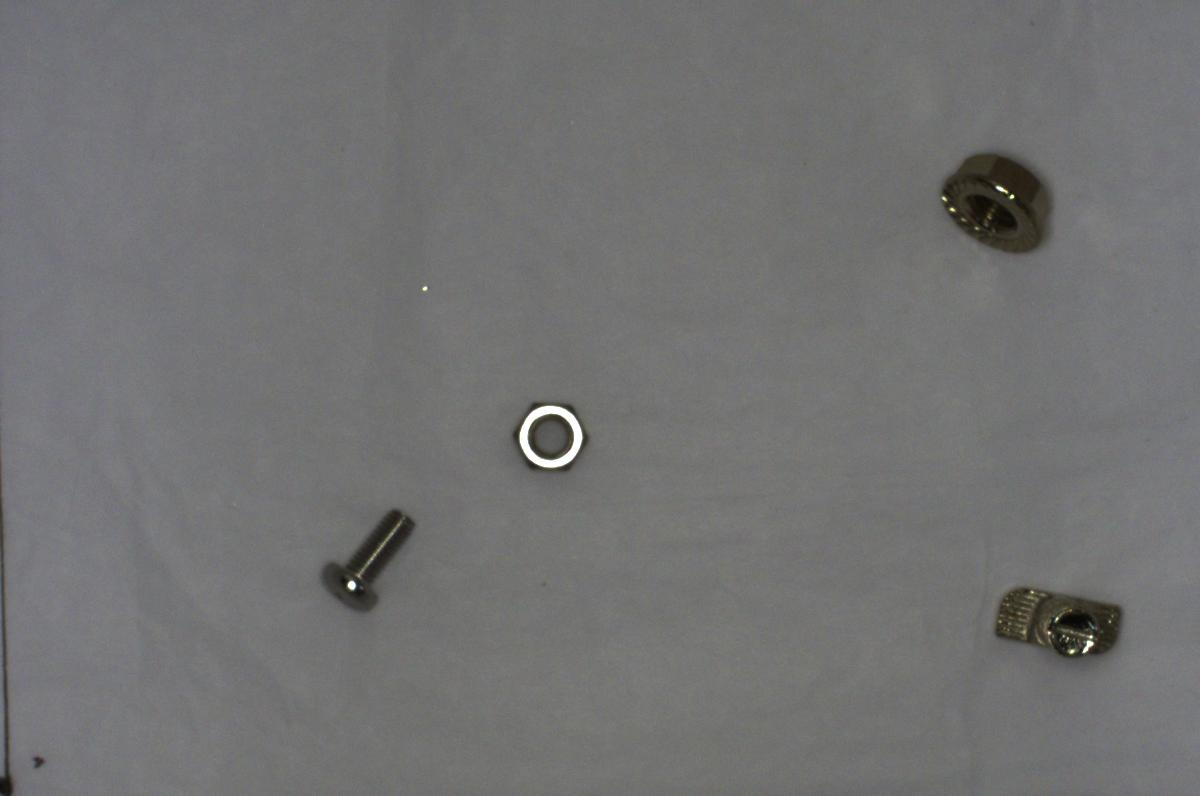Flange nut: (930, 148, 1065, 258)
Hexagon nut: (505, 385, 592, 480)
Round head screw: (311, 502, 413, 613)
T-shaped screw: (988, 572, 1134, 667)
